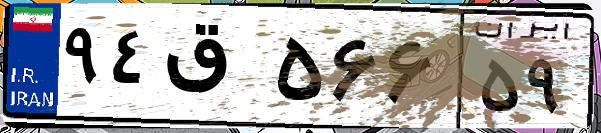4: (110, 28, 158, 98)
5: (270, 28, 330, 110), (475, 38, 525, 113)
6: (385, 28, 445, 110), (330, 28, 385, 110)
9: (57, 26, 110, 100), (525, 38, 570, 115)
ق: (158, 20, 270, 120)
